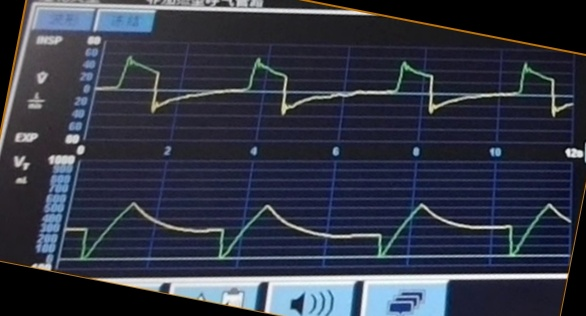Flow: (106, 51, 561, 131)
Leakage Volume: (75, 183, 566, 269)
